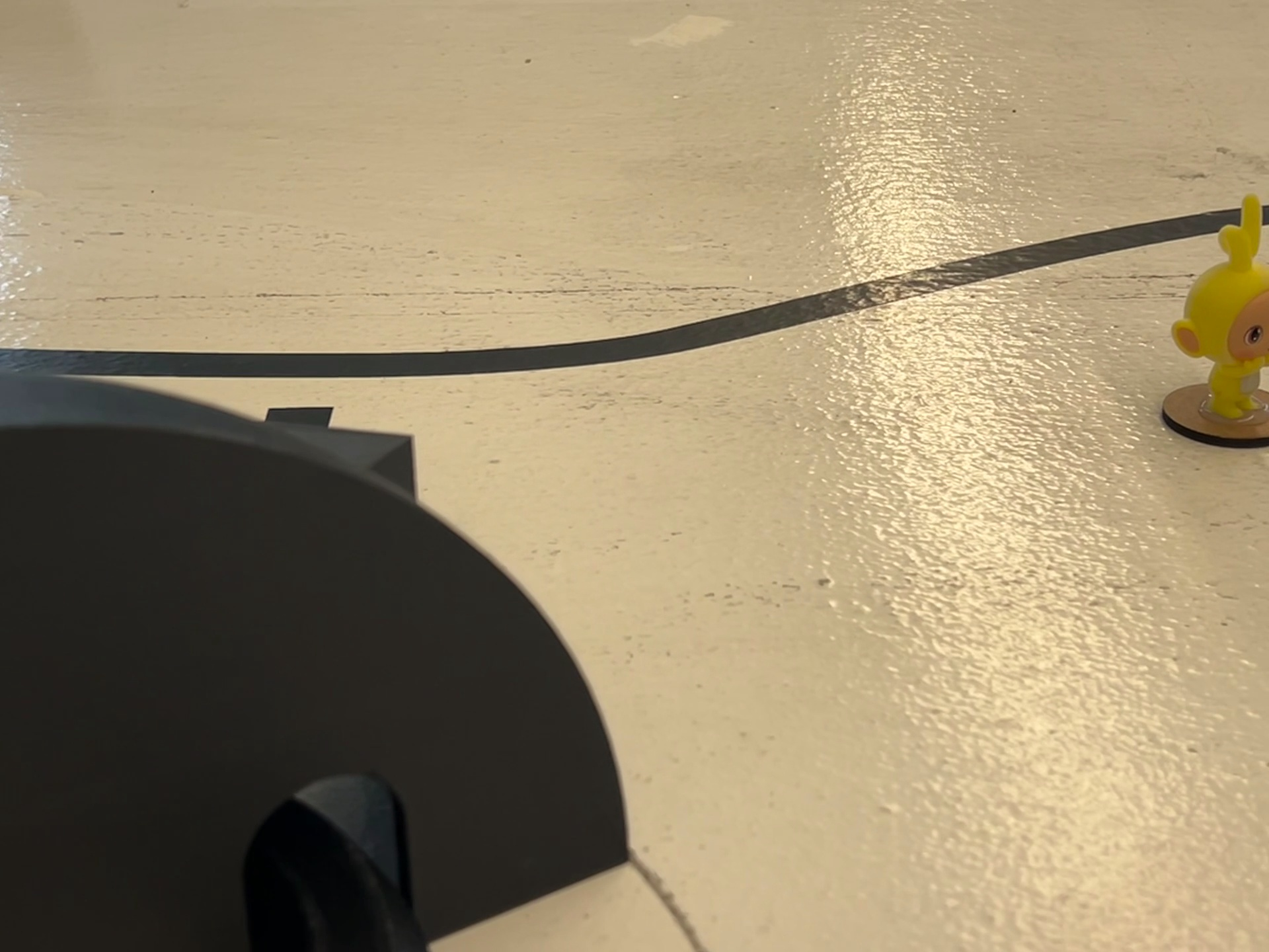teletubby: (1171, 194, 1268, 419)
